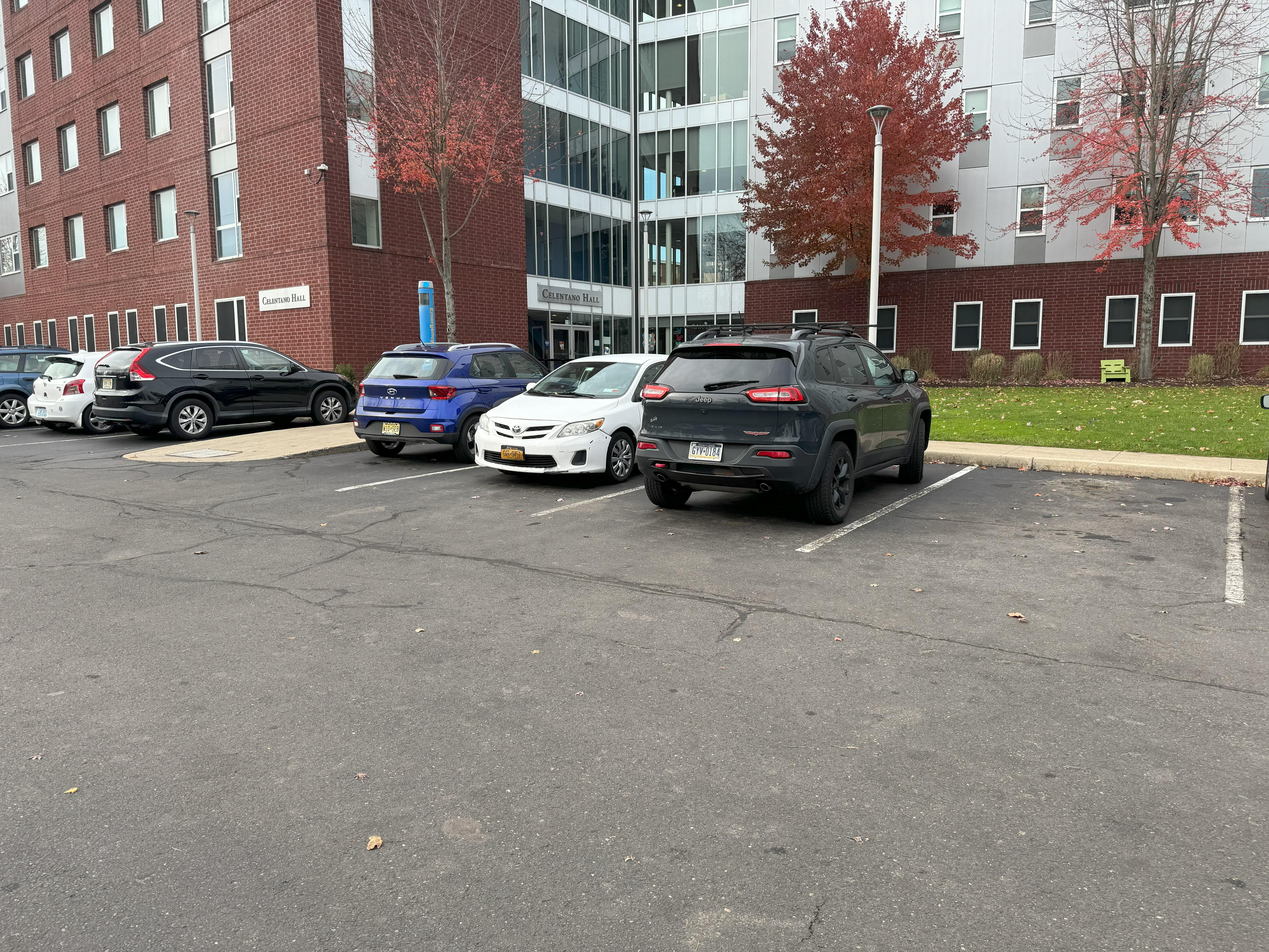empty: (938, 474, 1225, 607)
occupied: (645, 318, 939, 554), (98, 334, 343, 453), (476, 358, 647, 499), (343, 323, 466, 480), (16, 343, 91, 448)
